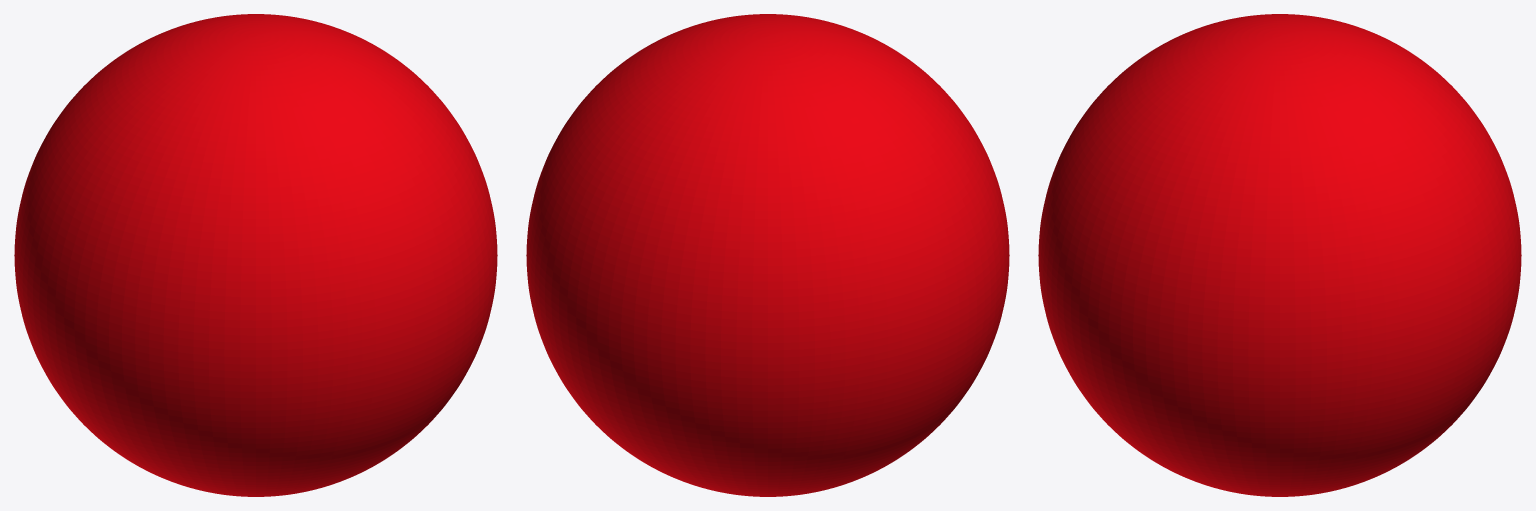
3 renders of one model, left to right at view 1: azimuth 30°, elevation 25°; view 2: azimuth 150°, elevation 25°; view 3: azimuth 270°, elevation 25°, orthographic.
Parts seen in each view (by area): view 1: 球; view 2: 球; view 3: 球.
Part boxes in pixels (x1=…): 球: x1=14, y1=14, x2=497, y2=496; 球: x1=526, y1=14, x2=1009, y2=496; 球: x1=1038, y1=14, x2=1521, y2=496.
Bounding box in the file's own units: 2 × 2 × 2.
